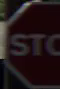Stop: (6, 10, 56, 74)
